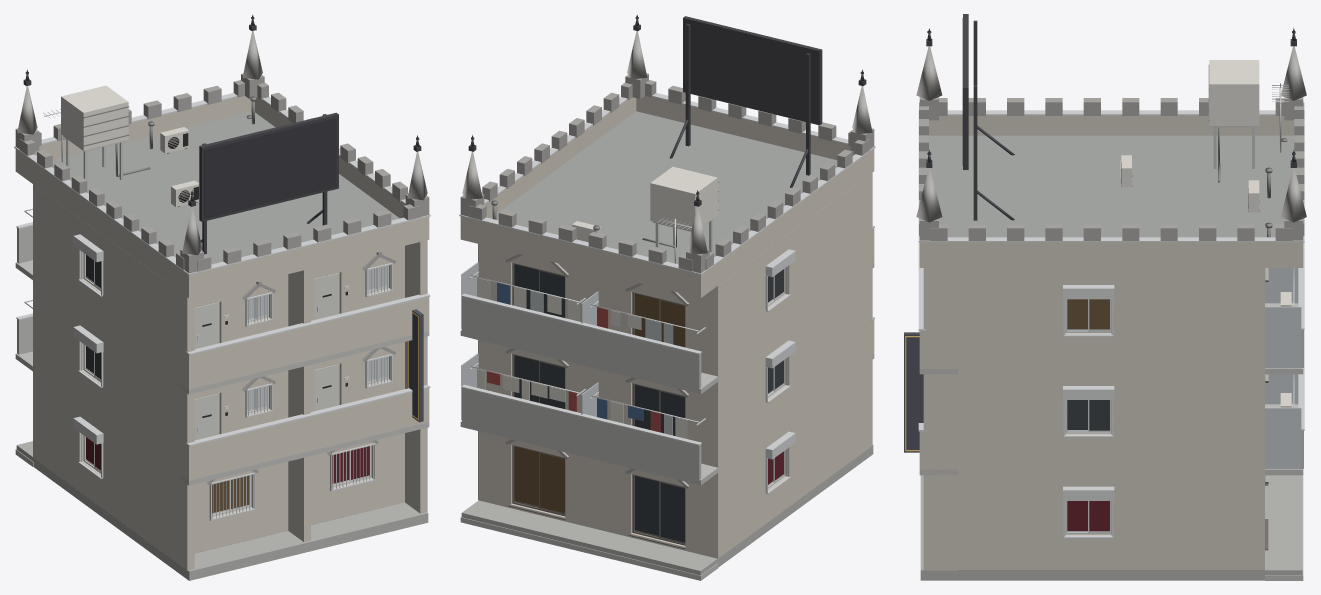
The model's file is blk_skyline8.glb.
The picture shows the model from 3 angles, left to right: view 1: azimuth 30°, elevation 25°; view 2: azimuth 150°, elevation 25°; view 3: azimuth 270°, elevation 25°; orthographic projection. The views are drawn at different scales.
Visible parts, largest first — view 1: blk_skyline8; view 2: blk_skyline8; view 3: blk_skyline8.
Part boxes in pixels (box(x1,y1,x2,y2)): blk_skyline8: box(14, 14, 430, 580); blk_skyline8: box(459, 14, 875, 580); blk_skyline8: box(904, 14, 1306, 580).
Bounding box in the file's own units: 8.46 × 13.08 × 10.5.
